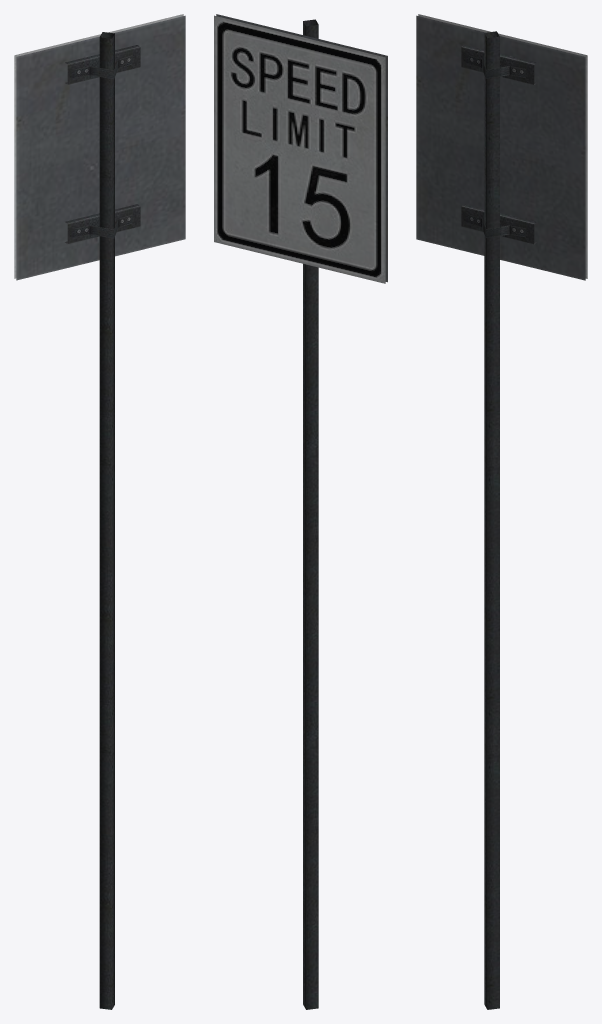
File: Speed_Limit_-_15_mph.glb
3 views of the same model, side by side, from view 1: azimuth 30°, elevation 25°; view 2: azimuth 150°, elevation 25°; view 3: azimuth 330°, elevation 25° (orthographic).
Visible parts, largest first — view 1: Speed_Limit_15mph__LOD1; view 2: Speed_Limit_15mph__LOD1; view 3: Speed_Limit_15mph__LOD1.
Part boxes in pixels (x1=…): Speed_Limit_15mph__LOD1: x1=14, y1=14, x2=185, y2=1009; Speed_Limit_15mph__LOD1: x1=214, y1=14, x2=387, y2=1009; Speed_Limit_15mph__LOD1: x1=416, y1=14, x2=587, y2=1009.
Size of the model in its own units: 0.546 by 2.99 by 0.0909.
Materials: 1 (1 with a texture image).
